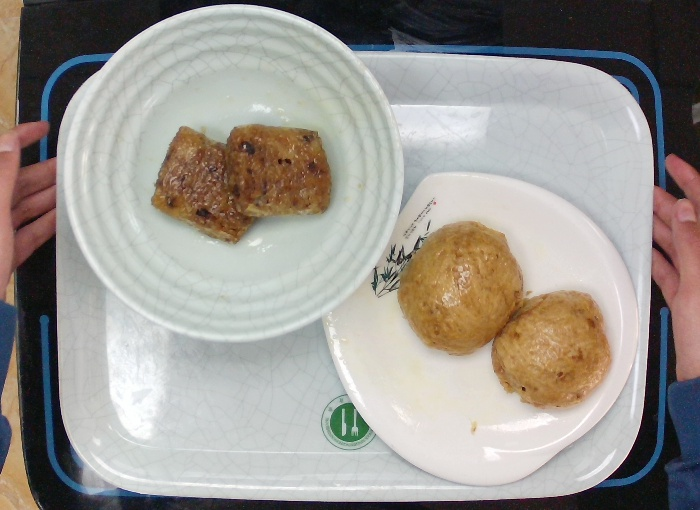JYsf-Da_Tang_Wan: (55, 1, 406, 345)
JYsf-Mian_Pan: (318, 160, 642, 496)
